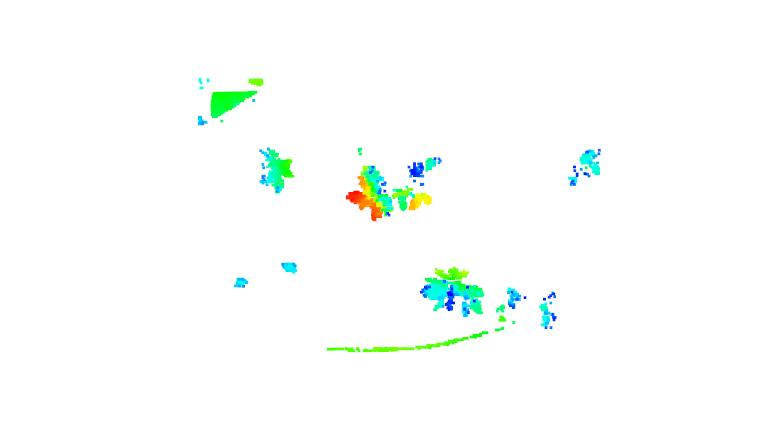chickpea: (417, 260, 488, 325), (493, 280, 558, 337), (343, 158, 396, 226), (398, 148, 445, 211), (251, 142, 295, 200), (568, 140, 608, 187)
